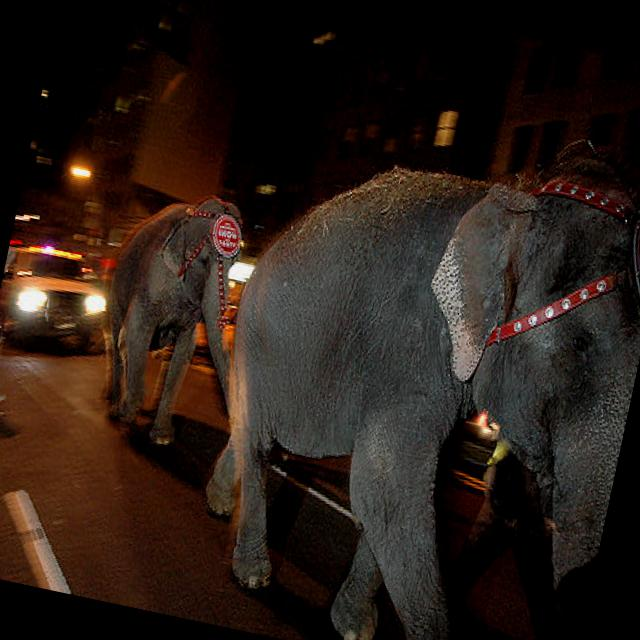Vehicle: (0, 243, 115, 356), (191, 291, 247, 366)
